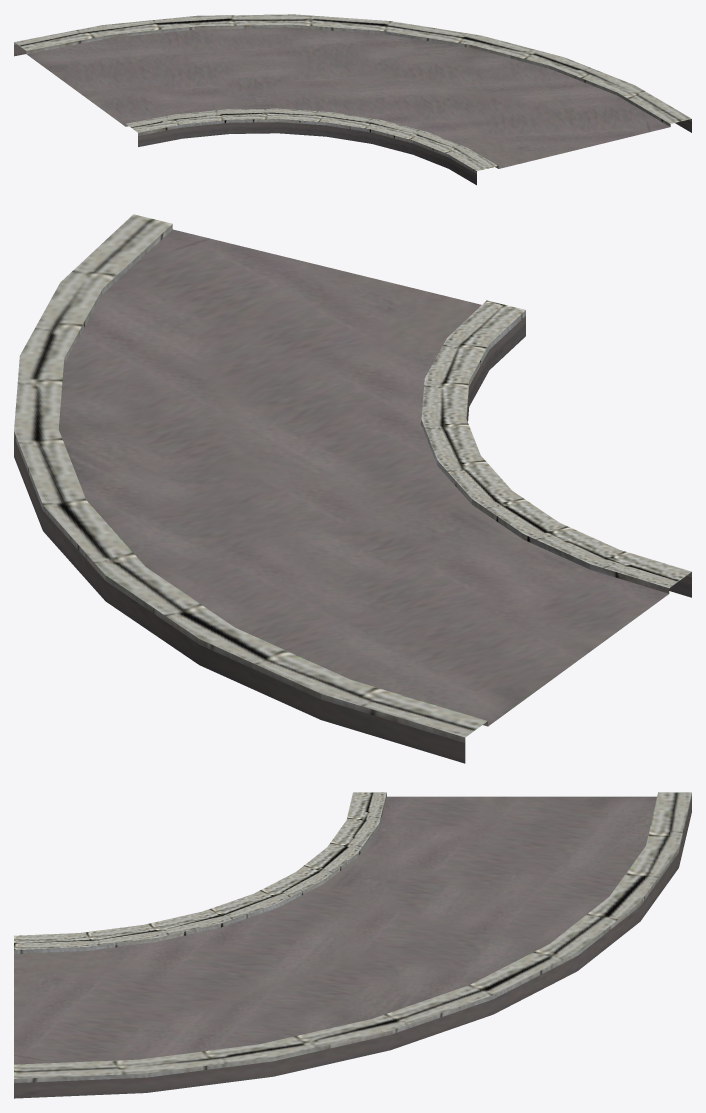
Rendered from L Road(Large).FBX.
The picture shows the model from 3 angles, top to bottom: view 1: azimuth 30°, elevation 25°; view 2: azimuth 150°, elevation 25°; view 3: azimuth 270°, elevation 25°; orthographic projection. The views are drawn at different scales.
Visible parts, largest first — view 1: L Road(Large); view 2: L Road(Large); view 3: L Road(Large).
Boxes of the visible parts, <box> form: L Road(Large): <box>14,14,691,185</box>; L Road(Large): <box>14,214,691,763</box>; L Road(Large): <box>14,792,691,1098</box>.
Bounding box in the file's own units: 2000 × 63.69 × 2000.
